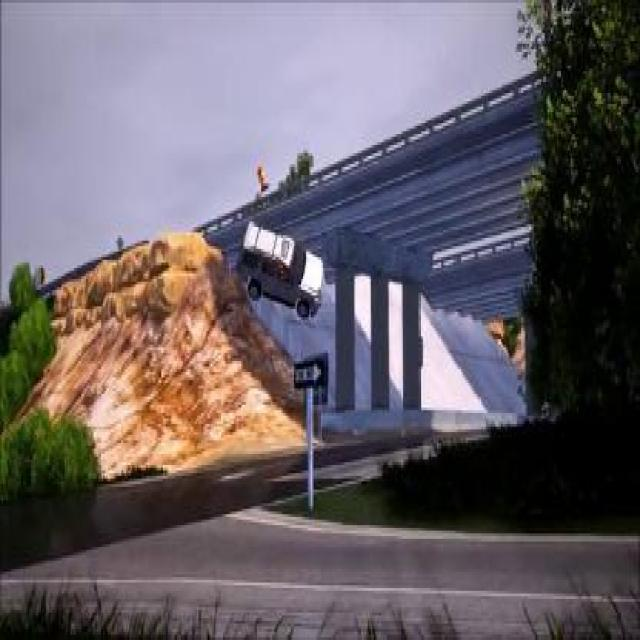accident: (240, 216, 325, 315)
